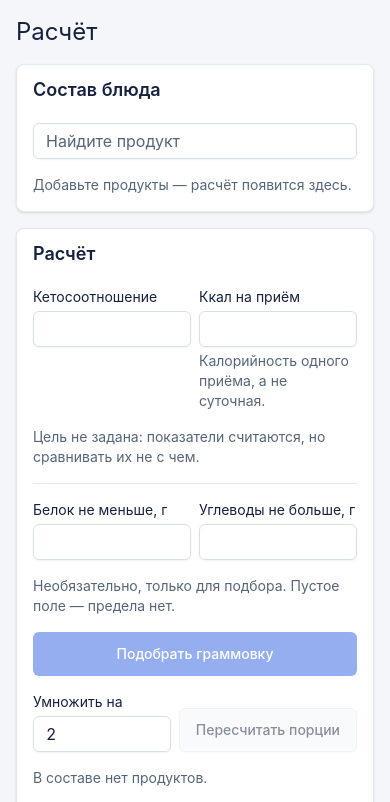
Test: калькулятор в Mini App › показывает вклад каждой позиции числами сервера
Type "масло" into the search field labelled "Найдите продукт" at point(195, 141), box [33,123,357,159]
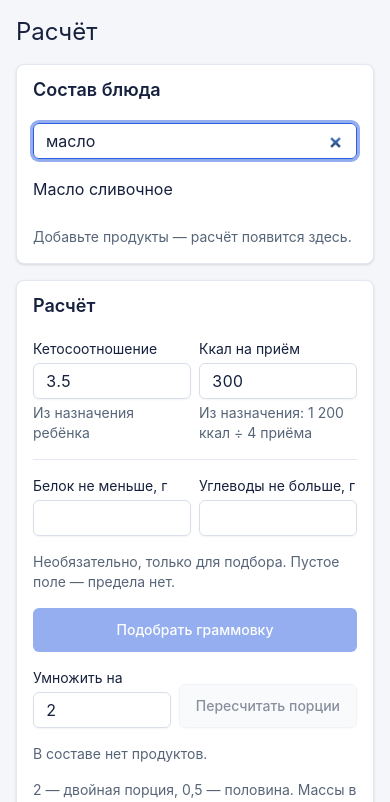
Click the button "Масло сливочное" at point(103, 189), box [33,167,357,211]
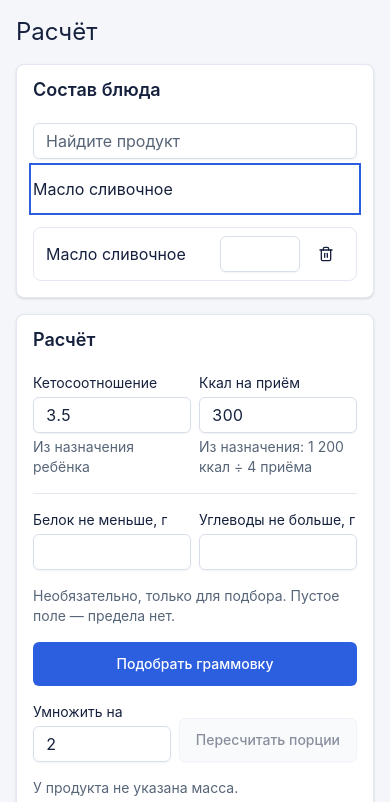
Type "30" into the field named "Масло сливочное, граммы" at point(260, 254), box [220,236,300,272]
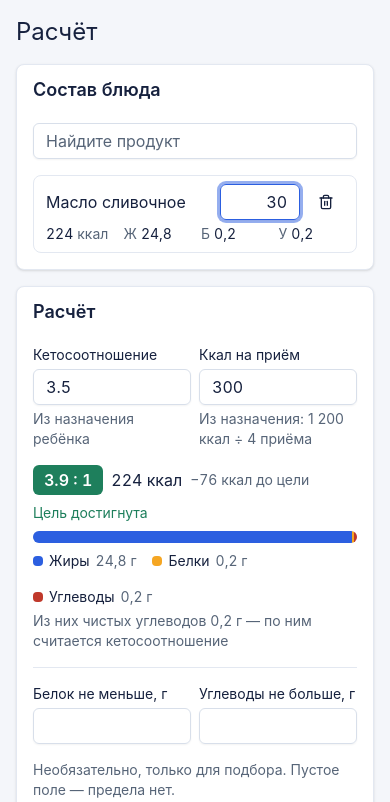
Now the element named "Вклад продукта «Масло сливочное»" shows "224", box [46,225,73,242]
Now the element named "Вклад продукта «Масло сливочное»" shows "24,8", box [141,225,172,242]
